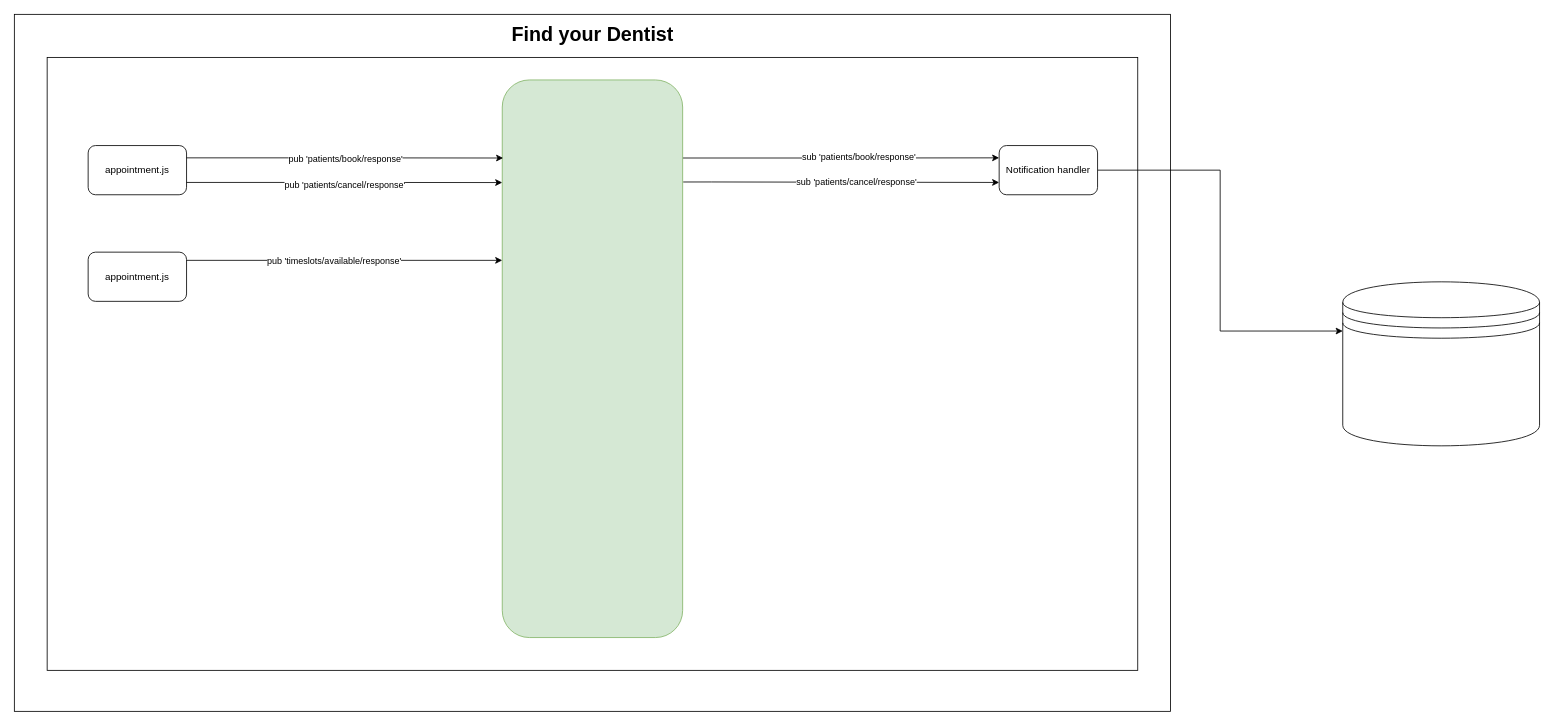
This 1554x726 diagram has some shape labels left out. Here are the shapes that lost their labels. From the top down, the box of each, then its label:
(501, 79, 683, 638): MQTT Broker
(1342, 281, 1540, 446): FitVenture User Data Storage
